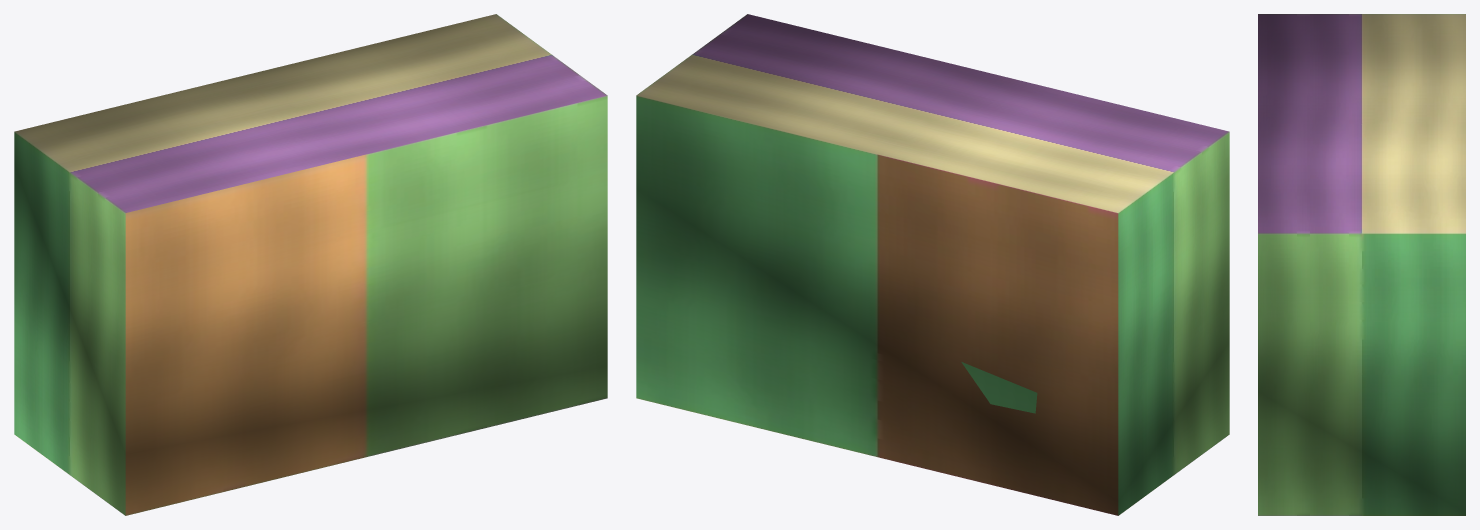
File: bush_b.glb
3 views of the same model, side by side, from view 1: azimuth 30°, elevation 25°; view 2: azimuth 150°, elevation 25°; view 3: azimuth 270°, elevation 25° (orthographic). The views are drawn at different scales.
Visible parts, largest first — view 1: col; view 2: col, lod0; view 3: col.
Boxes of the visible parts, x1,y1,x2,y2 form: col: [14, 14, 607, 515]; col: [636, 14, 1229, 515]; lod0: [961, 362, 1037, 413]; col: [1258, 14, 1465, 515].
Size of the model in its own units: 2 by 1.2 by 0.7999.
1 material, 1 textured.
